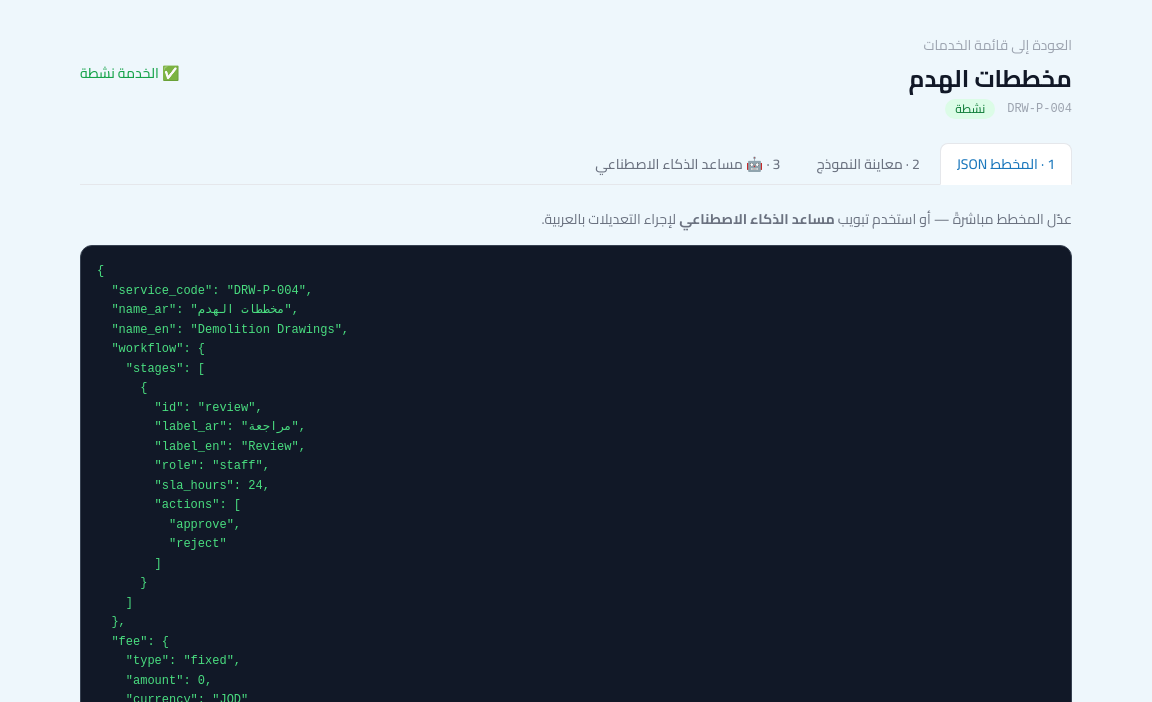
Test case: EditService — apply-and-save from the AI chat › persists the AI-updated schema via updateService and confirms in the panel
The image size is (1152, 702).
Expected: the heading "مخططات الهدم" is shown, top-left (908, 63), bottom-right (1072, 95)
Click the button "3 · 🤖 مساعد الذكاء الاصطناعي" at (688, 164), box top-left (579, 143), bottom-right (796, 184)
(page scrolled)
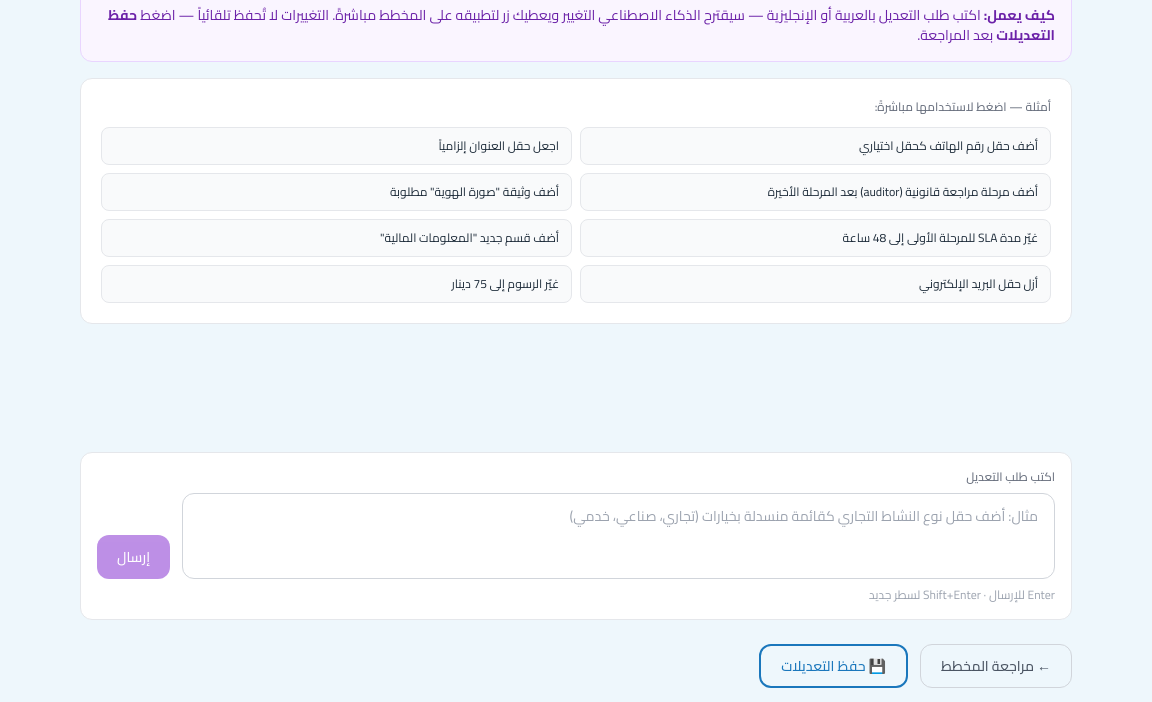
Type "add pdf-only demolition_drawings upload" into the text box at (618, 536), box top-left (182, 493), bottom-right (1055, 579)
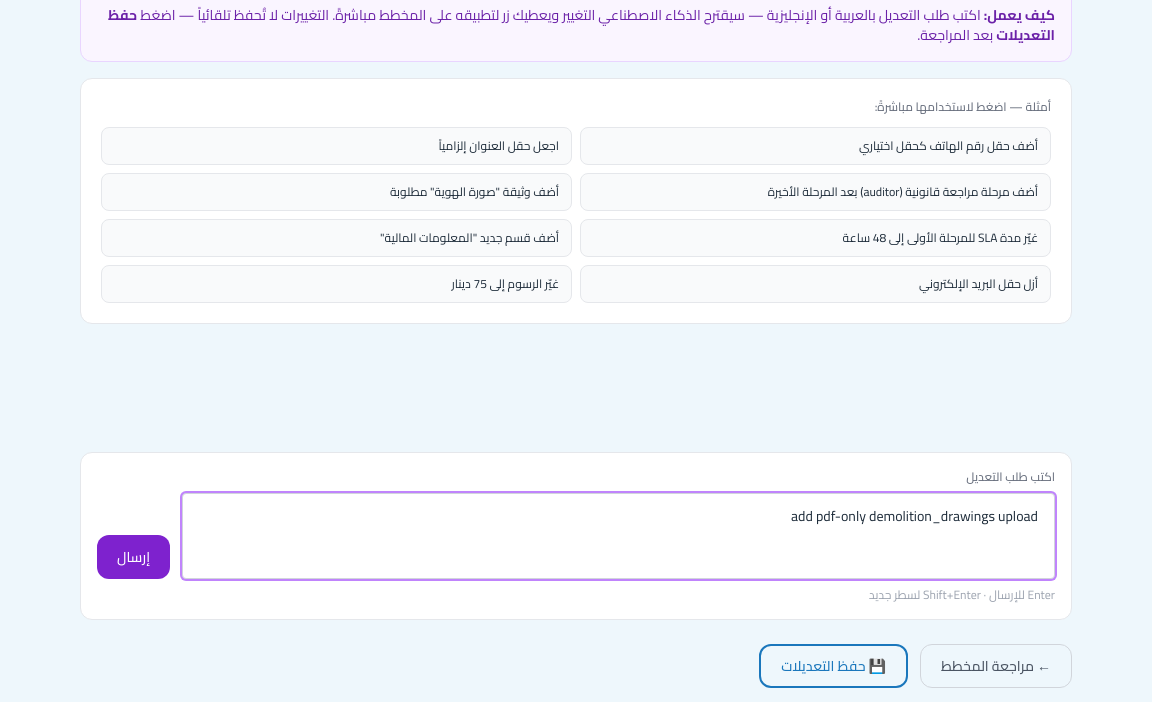
Click the button "إرسال" at (134, 557), box top-left (97, 535), bottom-right (170, 579)
(page scrolled)
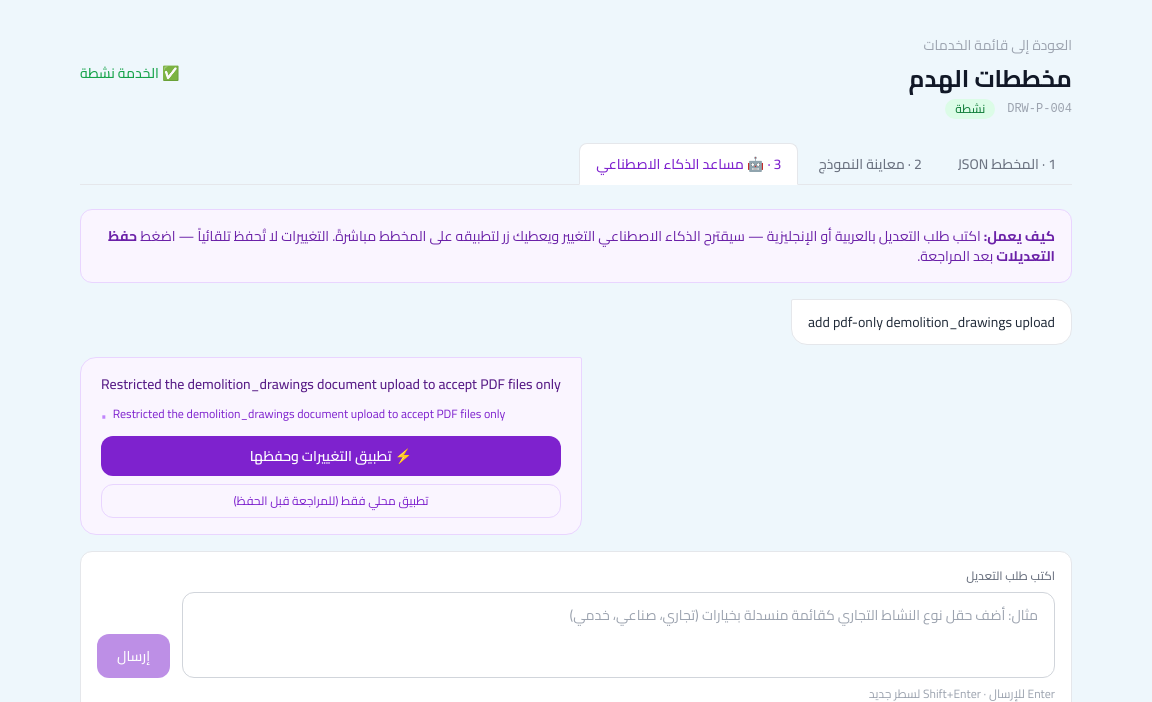
Result: the button "⚡ تطبيق التغييرات وحفظها" is shown
Click the button "⚡ تطبيق التغييرات وحفظها" at (331, 456), box top-left (101, 436), bottom-right (561, 476)
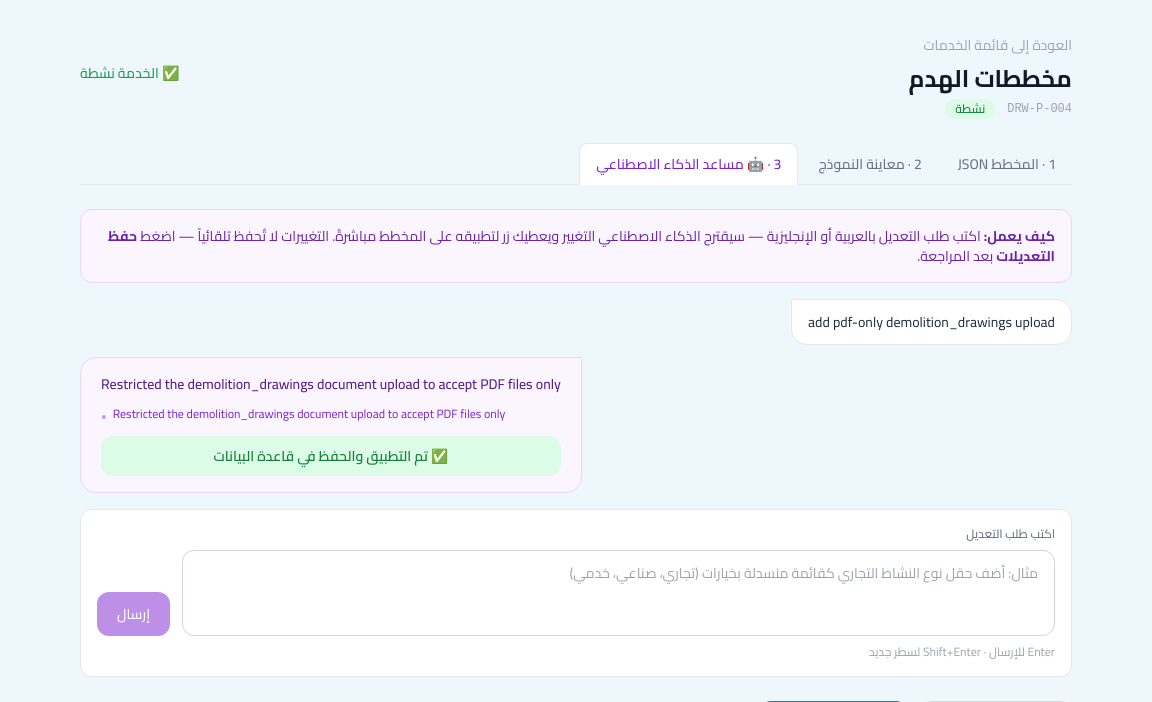
Result: the button "✅ تم التطبيق والحفظ في قاعدة البيانات" is shown at top-left (101, 436), bottom-right (561, 476)
